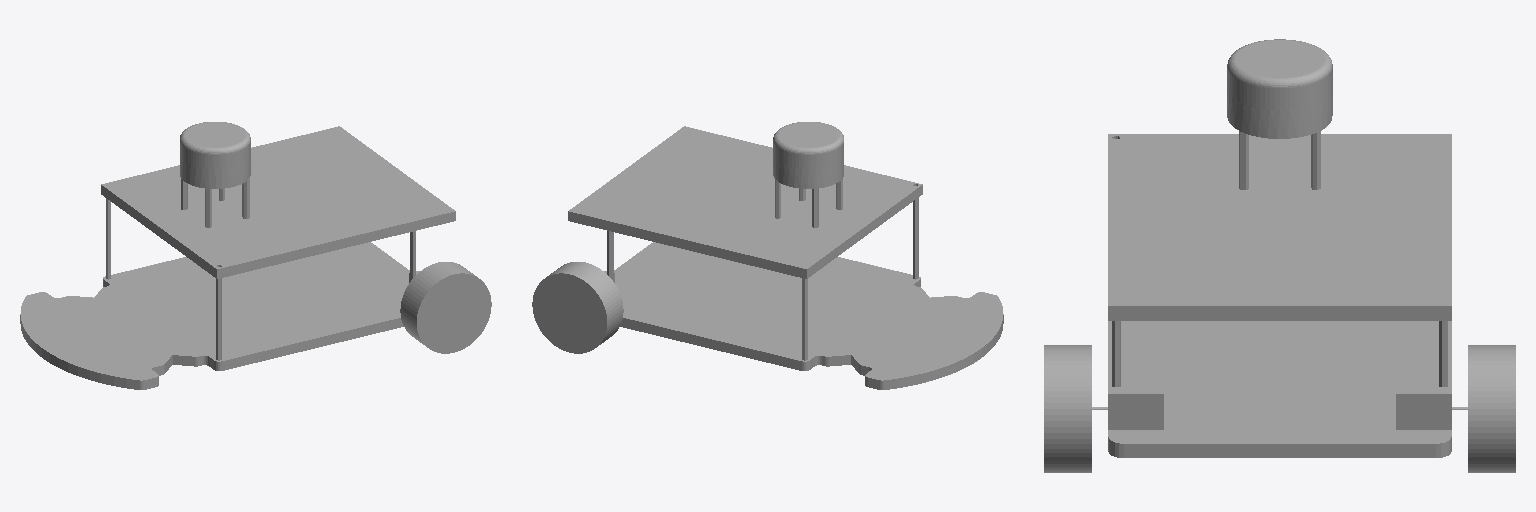
URDF robot description (car_v2_copy1019):
<?xml version="1.0" ?>
<!-- =================================================================================== -->
<!-- |    This document was autogenerated by xacro from urdf/car_v2_copy1019.xacro     | -->
<!-- |    EDITING THIS FILE BY HAND IS NOT RECOMMENDED                                 | -->
<!-- =================================================================================== -->
<robot xmlns:xacro="http://www.ros.org/wiki/xacro" name="car_v2_copy1019">
  <material name="silver">
    <color rgba="0.700 0.700 0.700 1.000"/>
  </material>
  <transmission name="Revolute 1_tran">
    <type>transmission_interface/SimpleTransmission</type>
    <joint name="Revolute 1">
      <hardwareInterface>hardware_interface/EffortJointInterface</hardwareInterface>
    </joint>
    <actuator name="Revolute 1_actr">
      <hardwareInterface>hardware_interface/EffortJointInterface</hardwareInterface>
      <mechanicalReduction>1</mechanicalReduction>
    </actuator>
  </transmission>
  <transmission name="Revolute 2_tran">
    <type>transmission_interface/SimpleTransmission</type>
    <joint name="Revolute 2">
      <hardwareInterface>hardware_interface/EffortJointInterface</hardwareInterface>
    </joint>
    <actuator name="Revolute 2_actr">
      <hardwareInterface>hardware_interface/EffortJointInterface</hardwareInterface>
      <mechanicalReduction>1</mechanicalReduction>
    </actuator>
  </transmission>
  <gazebo>
    <plugin name="control" filename="libgazebo_ros_control.so"/>
  </gazebo>
  <gazebo reference="base_link">
    <material>Gazebo/Silver</material>
    <mu1>0.2</mu1>
    <mu2>0.2</mu2>
    <selfCollide>true</selfCollide>
    <gravity>true</gravity>
  </gazebo>
  <gazebo reference="c2_v1_1">
    <material>Gazebo/Silver</material>
    <mu1>0.2</mu1>
    <mu2>0.2</mu2>
    <selfCollide>true</selfCollide>
  </gazebo>
  <gazebo reference="c2_v1__1__1">
    <material>Gazebo/Silver</material>
    <mu1>0.2</mu1>
    <mu2>0.2</mu2>
    <selfCollide>true</selfCollide>
  </gazebo>
  <gazebo reference="lidar_v1_1">
    <material>Gazebo/Silver</material>
    <mu1>0.2</mu1>
    <mu2>0.2</mu2>
    <selfCollide>true</selfCollide>
  </gazebo>
  <link name="base_link">
    <inertial>
      <origin xyz="-0.033614332957262155 -0.004539784516663659 0.05035636914443814" rpy="0 0 0"/>
      <mass value="10.997959919526476"/>
      <inertia ixx="0.068393" iyy="0.12963" izz="0.139744" ixy="1.4e-05" iyz="-4e-06" ixz="-0.00959"/>
    </inertial>
    <visual>
      <origin xyz="0 0 0" rpy="0 0 0"/>
      <geometry>
        <mesh filename="package://car_v2_copy1019_description/meshes/base_link.stl" scale="0.001 0.001 0.001"/>
      </geometry>
      <material name="silver"/>
    </visual>
    <collision>
      <origin xyz="0 0 0" rpy="0 0 0"/>
      <geometry>
        <mesh filename="package://car_v2_copy1019_description/meshes/base_link.stl" scale="0.001 0.001 0.001"/>
      </geometry>
    </collision>
  </link>
  <link name="c2_v1_1">
    <inertial>
      <origin xyz="-1.4567706968504623e-07 -0.015000142754442267 -7.979727989493313e-17" rpy="0 0 0"/>
      <mass value="1.1837521118726337"/>
      <inertia ixx="0.000562" iyy="0.000947" izz="0.000562" ixy="0.0" iyz="0.0" ixz="-0.0"/>
    </inertial>
    <visual>
      <origin xyz="-0.099195 0.122049 -0.0225" rpy="0 0 0"/>
      <geometry>
        <mesh filename="package://car_v2_copy1019_description/meshes/c2_v1_1.stl" scale="0.001 0.001 0.001"/>
      </geometry>
      <material name="silver"/>
    </visual>
    <collision>
      <origin xyz="-0.099195 0.122049 -0.0225" rpy="0 0 0"/>
      <geometry>
        <mesh filename="package://car_v2_copy1019_description/meshes/c2_v1_1.stl" scale="0.001 0.001 0.001"/>
      </geometry>
    </collision>
  </link>
  <link name="c2_v1__1__1">
    <inertial>
      <origin xyz="-1.4567706967116845e-07 0.014999857245557718 -9.71445146547012e-17" rpy="0 0 0"/>
      <mass value="1.1837521118726337"/>
      <inertia ixx="0.000562" iyy="0.000947" izz="0.000562" ixy="-0.0" iyz="-0.0" ixz="0.0"/>
    </inertial>
    <visual>
      <origin xyz="-0.099195 -0.112951 -0.0225" rpy="0 0 0"/>
      <geometry>
        <mesh filename="package://car_v2_copy1019_description/meshes/c2_v1__1__1.stl" scale="0.001 0.001 0.001"/>
      </geometry>
      <material name="silver"/>
    </visual>
    <collision>
      <origin xyz="-0.099195 -0.112951 -0.0225" rpy="0 0 0"/>
      <geometry>
        <mesh filename="package://car_v2_copy1019_description/meshes/c2_v1__1__1.stl" scale="0.001 0.001 0.001"/>
      </geometry>
    </collision>
  </link>
  <link name="lidar_v1_1">
    <inertial>
      <origin xyz="-1.4668289803621004e-07 -1.427544422272914e-07 0.00985849993873536" rpy="0 0 0"/>
      <mass value="0.5286905929941373"/>
      <inertia ixx="0.000159" iyy="0.000159" izz="0.000284" ixy="-0.0" iyz="-0.0" ixz="-0.0"/>
    </inertial>
    <visual>
      <origin xyz="0.070805 0.004549 -0.165" rpy="0 0 0"/>
      <geometry>
        <mesh filename="package://car_v2_copy1019_description/meshes/lidar_v1_1.stl" scale="0.001 0.001 0.001"/>
      </geometry>
      <material name="silver"/>
    </visual>
    <collision>
      <origin xyz="0.070805 0.004549 -0.165" rpy="0 0 0"/>
      <geometry>
        <mesh filename="package://car_v2_copy1019_description/meshes/lidar_v1_1.stl" scale="0.001 0.001 0.001"/>
      </geometry>
    </collision>
  </link>
  <joint name="Revolute 1" type="continuous">
    <origin xyz="0.099195 -0.122049 0.0225" rpy="0 0 0"/>
    <parent link="base_link"/>
    <child link="c2_v1_1"/>
    <axis xyz="0.0 -1.0 0.0"/>
  </joint>
  <joint name="Revolute 2" type="continuous">
    <origin xyz="0.099195 0.112951 0.0225" rpy="0 0 0"/>
    <parent link="base_link"/>
    <child link="c2_v1__1__1"/>
    <axis xyz="0.0 1.0 -0.0"/>
  </joint>
  <joint name="Rigid 3" type="fixed">
    <origin xyz="-0.070805 -0.004549 0.165" rpy="0 0 0"/>
    <parent link="base_link"/>
    <child link="lidar_v1_1"/>
  </joint>
</robot>

--- Facts derived from the render (not from the file) ---
Views: 3 orthographic renders of the robot side by side, from view 1: azimuth 30°, elevation 25°; view 2: azimuth 150°, elevation 25°; view 3: azimuth 270°, elevation 25°.
Robot: car_v2_copy1019 — 4 links, 3 joints (2 continuous, 1 fixed); root link base_link; default pose: all joints at 0.
Links seen in each view (by area): view 1: base_link, c2_v1_1, lidar_v1_1; view 2: base_link, c2_v1__1__1, lidar_v1_1; view 3: base_link, lidar_v1_1, c2_v1_1, c2_v1__1__1.
Link boxes in pixels (box(x1,y1,x2,y2)): base_link: box(20, 126, 455, 389); c2_v1_1: box(400, 262, 491, 353); lidar_v1_1: box(180, 122, 250, 169); base_link: box(568, 126, 1003, 389); c2_v1__1__1: box(532, 262, 623, 353); lidar_v1_1: box(773, 122, 843, 169); base_link: box(1092, 90, 1467, 457); lidar_v1_1: box(1227, 39, 1332, 109); c2_v1_1: box(1044, 345, 1091, 472); c2_v1__1__1: box(1468, 345, 1515, 472).
Size in the robot's own frame: 0.3945 by 0.295 by 0.2025 metres.
Meshes: 4 distinct files referenced, 4 mesh visuals loaded (4 binary STL).